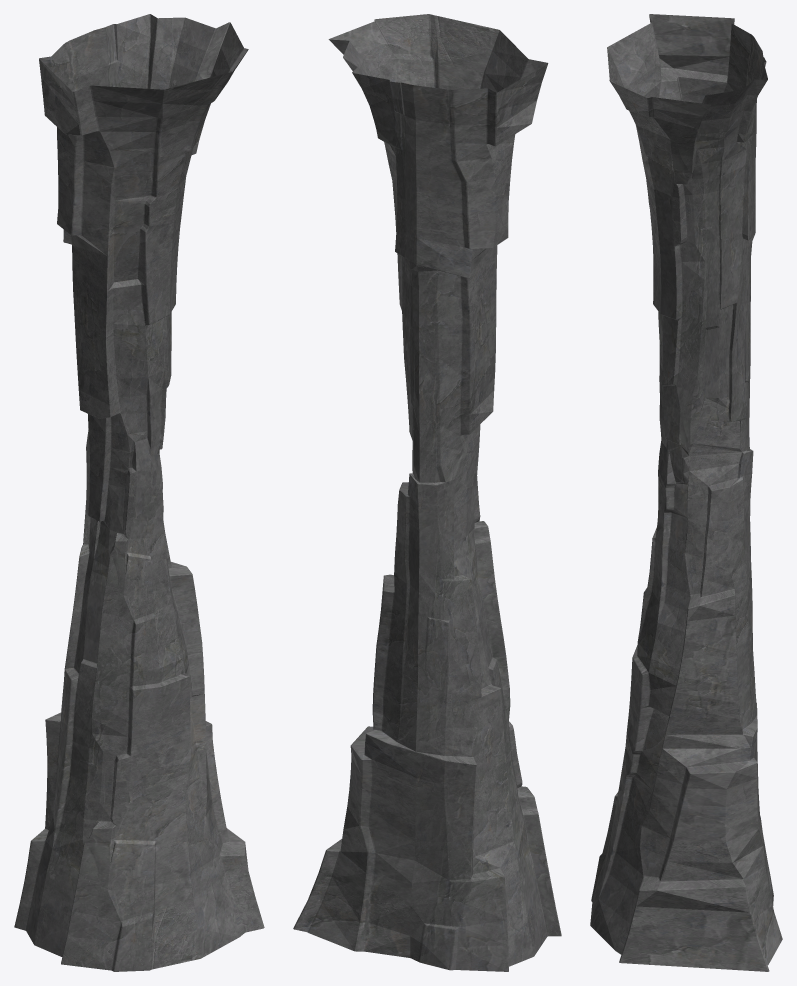
Rendered from Pillar01.fbx.
3 renders of one model, left to right at view 1: azimuth 30°, elevation 25°; view 2: azimuth 150°, elevation 25°; view 3: azimuth 270°, elevation 25°, orthographic.
Parts seen in each view (by area): view 1: SM_ENV_NATURE_Cave_Pillar_M_02.mo; view 2: SM_ENV_NATURE_Cave_Pillar_M_02.mo; view 3: SM_ENV_NATURE_Cave_Pillar_M_02.mo.
Part boxes in pixels (x1,y1,x2,y2): SM_ENV_NATURE_Cave_Pillar_M_02.mo: [14, 14, 264, 971]; SM_ENV_NATURE_Cave_Pillar_M_02.mo: [293, 14, 561, 971]; SM_ENV_NATURE_Cave_Pillar_M_02.mo: [590, 14, 782, 971].
Size of the model in its own units: 498 by 1993 by 402.
1 material, 1 textured.
